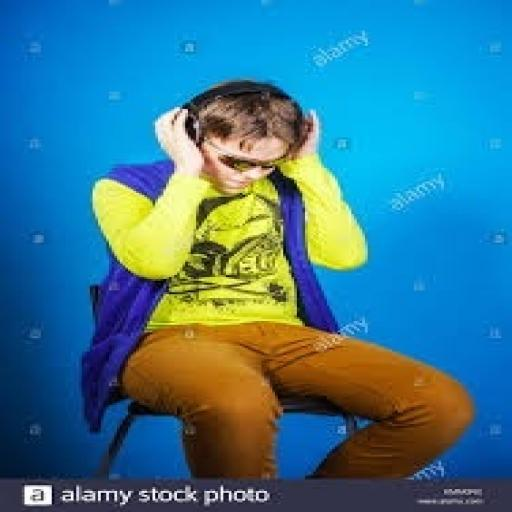listening_to_music: (87, 76, 479, 482)
